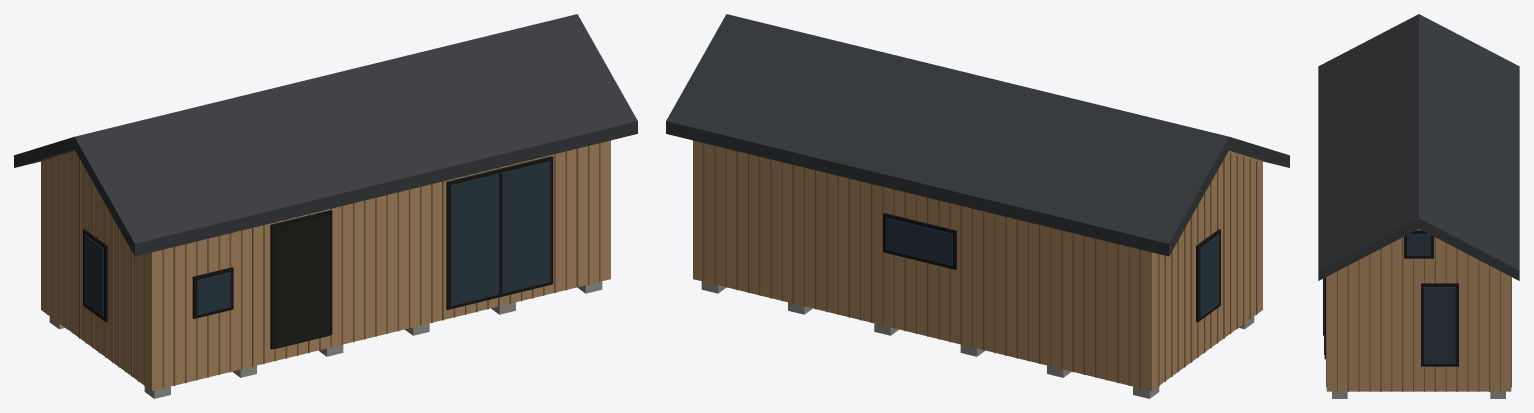
File: hus-r2.glb
3 renders of one model, left to right at view 1: azimuth 30°, elevation 25°; view 2: azimuth 150°, elevation 25°; view 3: azimuth 270°, elevation 25°, orthographic. The views are drawn at different scales.
Parts seen in each view (by area): view 1: del13, del12, del131, del129, del130, del138, del128, del127, del126, del137; view 2: del12, del13, del140, del138, del139, del137; view 3: del13, del12, del134, del133, del136, del113, del115, del117, del101, del119, del135, del99 (+3 smaller).
Boxes of the visible parts, x1=… form: del13: x1=14, y1=14, x2=637, y2=256; del12: x1=41, y1=140, x2=610, y2=390; del131: x1=450, y1=161, x2=550, y2=305; del129: x1=274, y1=215, x2=329, y2=348; del130: x1=446, y1=156, x2=553, y2=309; del138: x1=84, y1=234, x2=103, y2=317; del128: x1=270, y1=210, x2=332, y2=349; del127: x1=197, y1=272, x2=230, y2=314; del126: x1=192, y1=267, x2=233, y2=318; del137: x1=83, y1=229, x2=107, y2=322; del12: x1=693, y1=140, x2=1262, y2=390; del13: x1=666, y1=14, x2=1289, y2=256; del140: x1=886, y1=218, x2=952, y2=265; del138: x1=1200, y1=234, x2=1219, y2=317; del139: x1=883, y1=213, x2=956, y2=269; del137: x1=1196, y1=229, x2=1220, y2=322; del13: x1=1318, y1=14, x2=1519, y2=280; del12: x1=1326, y1=229, x2=1511, y2=391; del134: x1=1424, y1=287, x2=1455, y2=363; del133: x1=1421, y1=283, x2=1458, y2=366; del136: x1=1407, y1=234, x2=1430, y2=255; del113: x1=1402, y1=237, x2=1403, y2=391; del115: x1=1391, y1=243, x2=1392, y2=391; del117: x1=1380, y1=248, x2=1381, y2=391; del101: x1=1467, y1=254, x2=1468, y2=391; del119: x1=1369, y1=254, x2=1370, y2=391; del135: x1=1404, y1=230, x2=1433, y2=258; del99: x1=1478, y1=260, x2=1479, y2=391.
Size of the model in its own units: 9.13 by 4 by 3.8.
